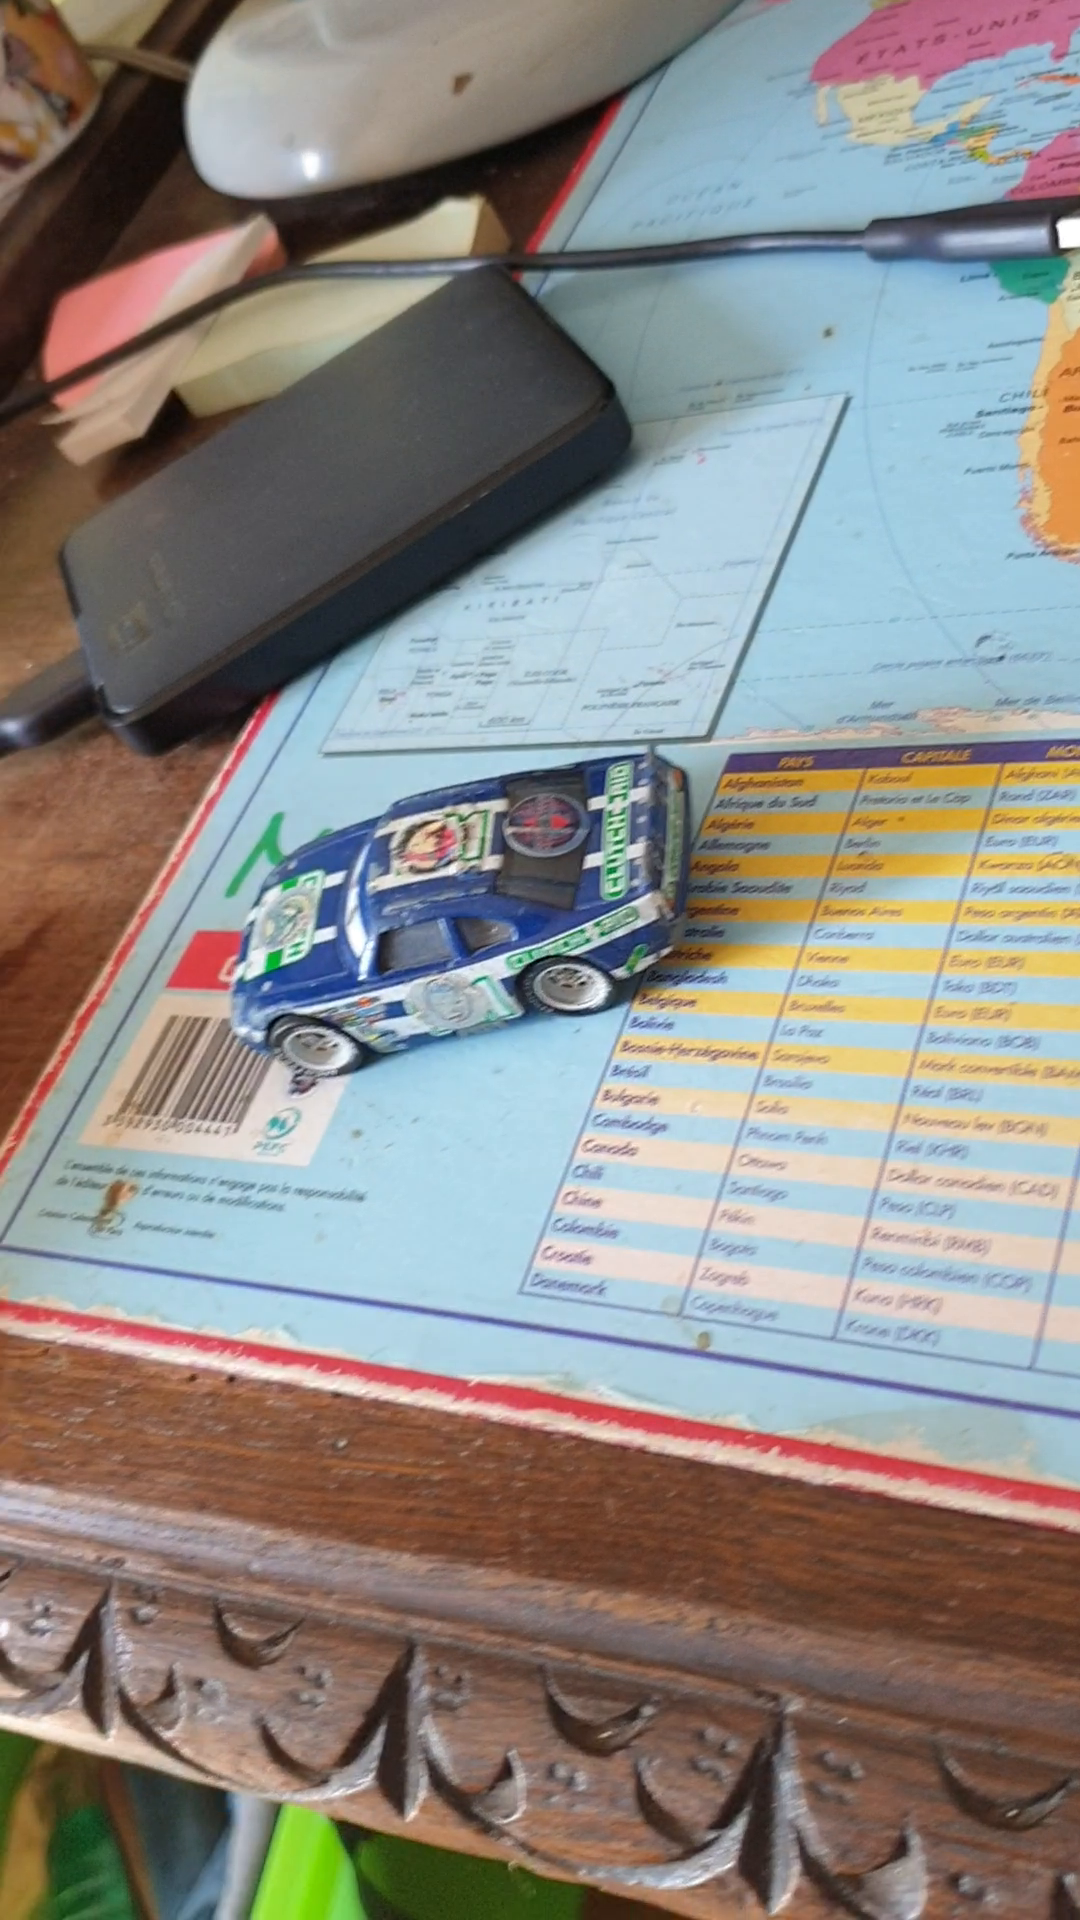cars: (224, 745, 695, 1073)
